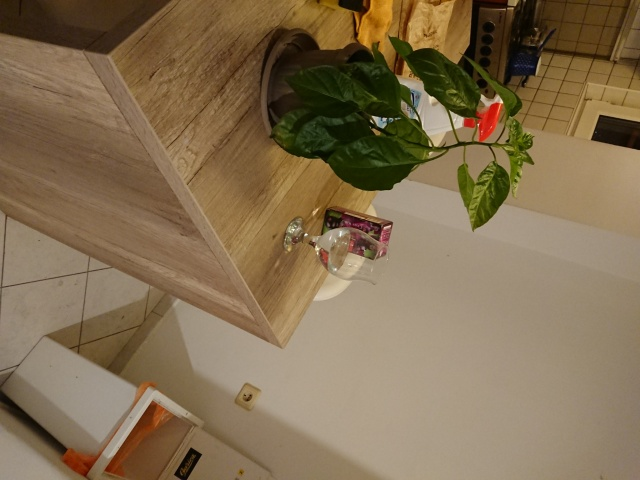Franck Black Currant Tea 60g: (316, 203, 396, 263)
